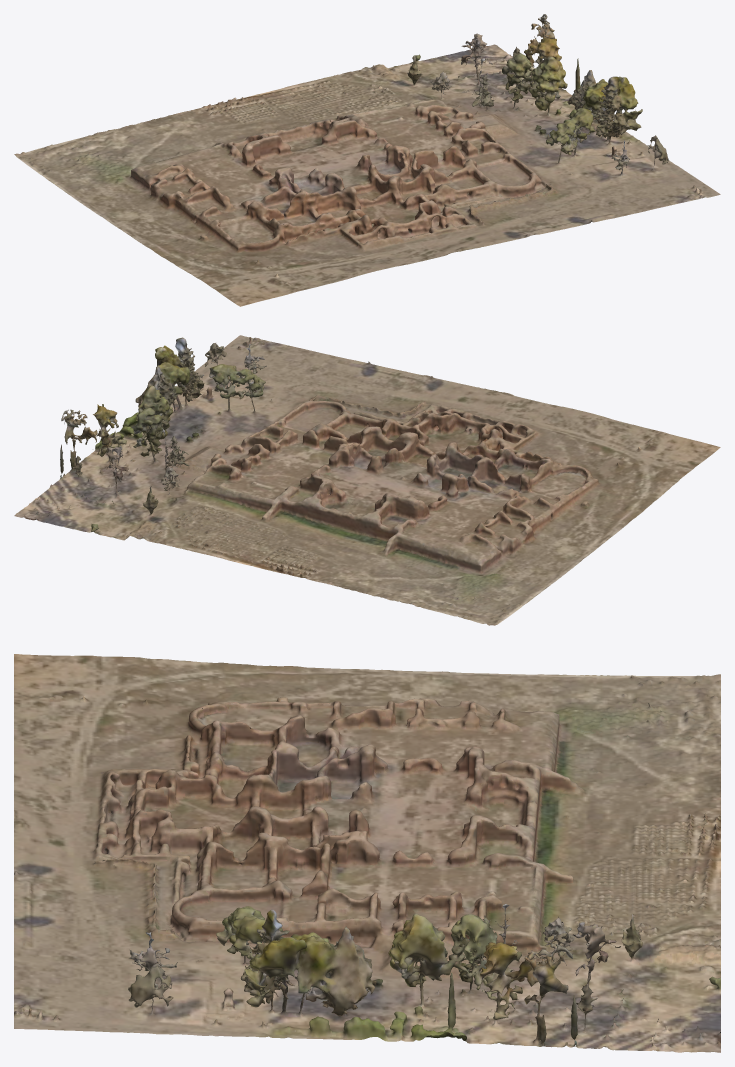
3 views of the same model, one above another, from view 1: azimuth 30°, elevation 25°; view 2: azimuth 150°, elevation 25°; view 3: azimuth 270°, elevation 25° (orthographic). The views are drawn at different scales.
Parts seen in each view (by area): view 1: DZA_001_M2_Bathhouse_LP; view 2: DZA_001_M2_Bathhouse_LP; view 3: DZA_001_M2_Bathhouse_LP.
Boxes of the visible parts, <box> form: DZA_001_M2_Bathhouse_LP: <box>14,14,720,306</box>; DZA_001_M2_Bathhouse_LP: <box>14,335,720,625</box>; DZA_001_M2_Bathhouse_LP: <box>14,654,720,1052</box>.
Bounding box in the file's own units: 124 × 19.5 × 101.
1 material, 1 textured.
